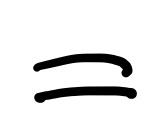eqv: (29, 47, 141, 105)
